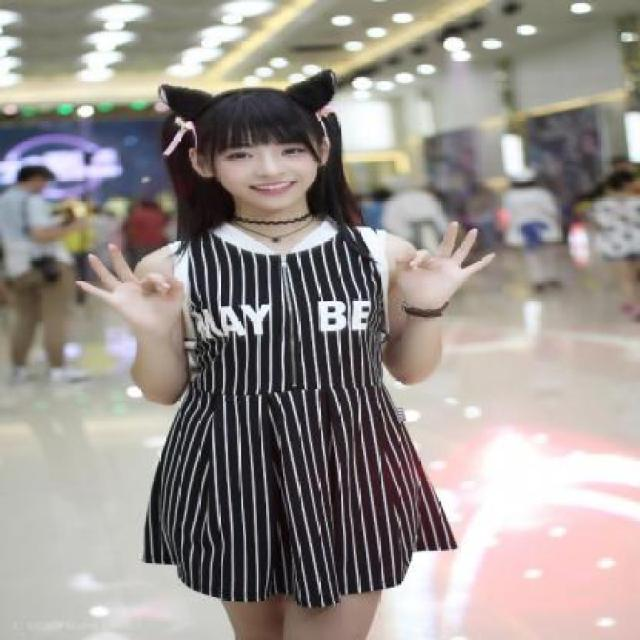Person: (57, 47, 512, 638)
